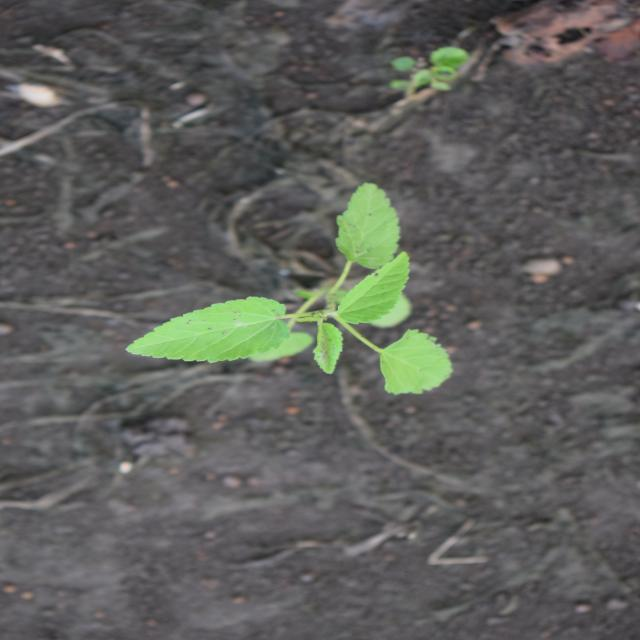PricklySida: (123, 180, 456, 398)
